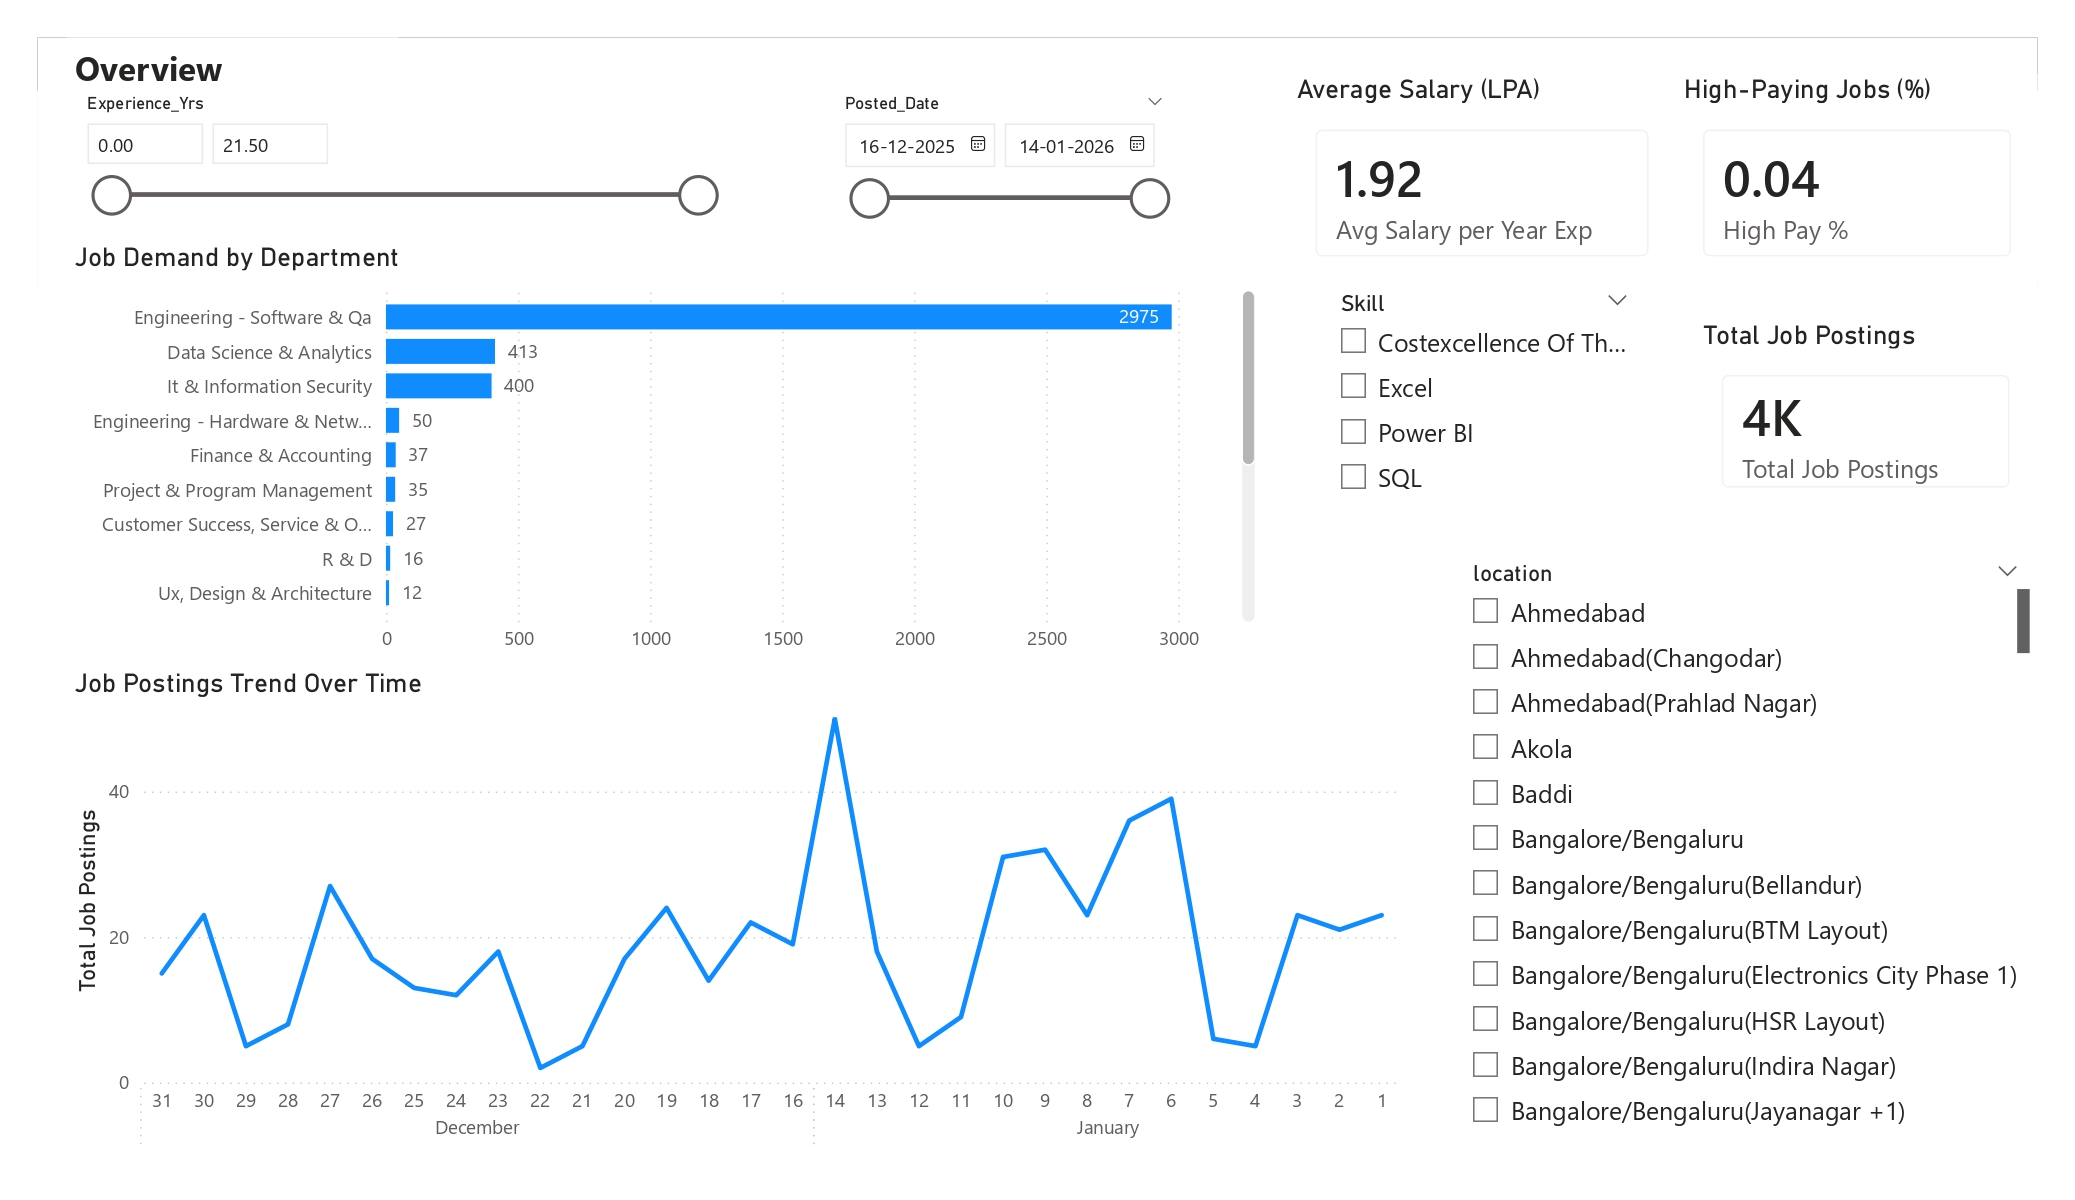

Layout of this report page (visuals, bound fields, positions):
{"tool":"powerbi","page":{"name":"Overview","canvas":[1280,720],"ordinal":0},"visuals":[{"type":"cardVisual","title":"Total Job Postings","fields":{"Data":["FactJobSkills.Total Job Postings"]},"box":[1061.4,180,218.6,125.7],"z":0},{"type":"cardVisual","title":"Average Salary (LPA)","fields":{"Data":["FactJobSkills.Avg Salary per Year Exp"]},"box":[801.4,22.9,247.1,134.3],"z":1000},{"type":"textbox","box":[18.6,0,212.9,45.7],"z":2000},{"type":"slicer","fields":{"Values":["FactJobs.Experience_Yrs"]},"box":[18.6,31.4,425.7,115.7],"z":2500},{"type":"cardVisual","title":"High-Paying Jobs (%)","fields":{"Data":["FactJobSkills.High Pay %"]},"box":[1048.6,22.9,231.4,134.3],"z":3000},{"type":"lineChart","title":"Job Postings Trend Over Time","fields":{"Y":["FactJobSkills.Total Job Postings"],"Category":["FactJobs.Posted_Date.Variation.Date Hierarchy.Month","FactJobs.Posted_Date.Variation.Date Hierarchy.Day"]},"box":[18.6,402.9,857.1,317.1],"z":4000},{"type":"clusteredBarChart","title":"Job Demand by Department","fields":{"Category":["FactJobSkills.Dept"],"Y":["FactJobSkills.Total Job Postings"]},"box":[18.6,130,765.7,272.9],"z":5000},{"type":"slicer","fields":{"Values":["FactJobSkills.Skill"]},"box":[821.4,157.1,208.6,155.7],"z":6000},{"type":"slicer","fields":{"Values":["FactJobs.location"]},"box":[905.7,330,374.3,375.7],"z":7000},{"type":"slicer","fields":{"Values":["FactJobs.Posted_Date"]},"box":[504.3,31.4,228.6,98.6],"z":9000}]}

Visuals, with their boxes in screenshot pixels (x1, y1, x2, y2):
"Total Job Postings" cardVisual: left=1696, top=319, right=2038, bottom=515
"Average Salary (LPA)" cardVisual: left=1290, top=73, right=1676, bottom=283
textbox: left=67, top=38, right=399, bottom=109
slicer - FactJobs.Experience_Yrs: left=67, top=87, right=732, bottom=267
"High-Paying Jobs (%)" cardVisual: left=1676, top=73, right=2038, bottom=283
"Job Postings Trend Over Time" lineChart: left=67, top=667, right=1406, bottom=1162
"Job Demand by Department" clusteredBarChart: left=67, top=241, right=1263, bottom=667
slicer - FactJobSkills.Skill: left=1321, top=283, right=1647, bottom=526
slicer - FactJobs.location: left=1453, top=553, right=2038, bottom=1140
slicer - FactJobs.Posted_Date: left=825, top=87, right=1183, bottom=241
